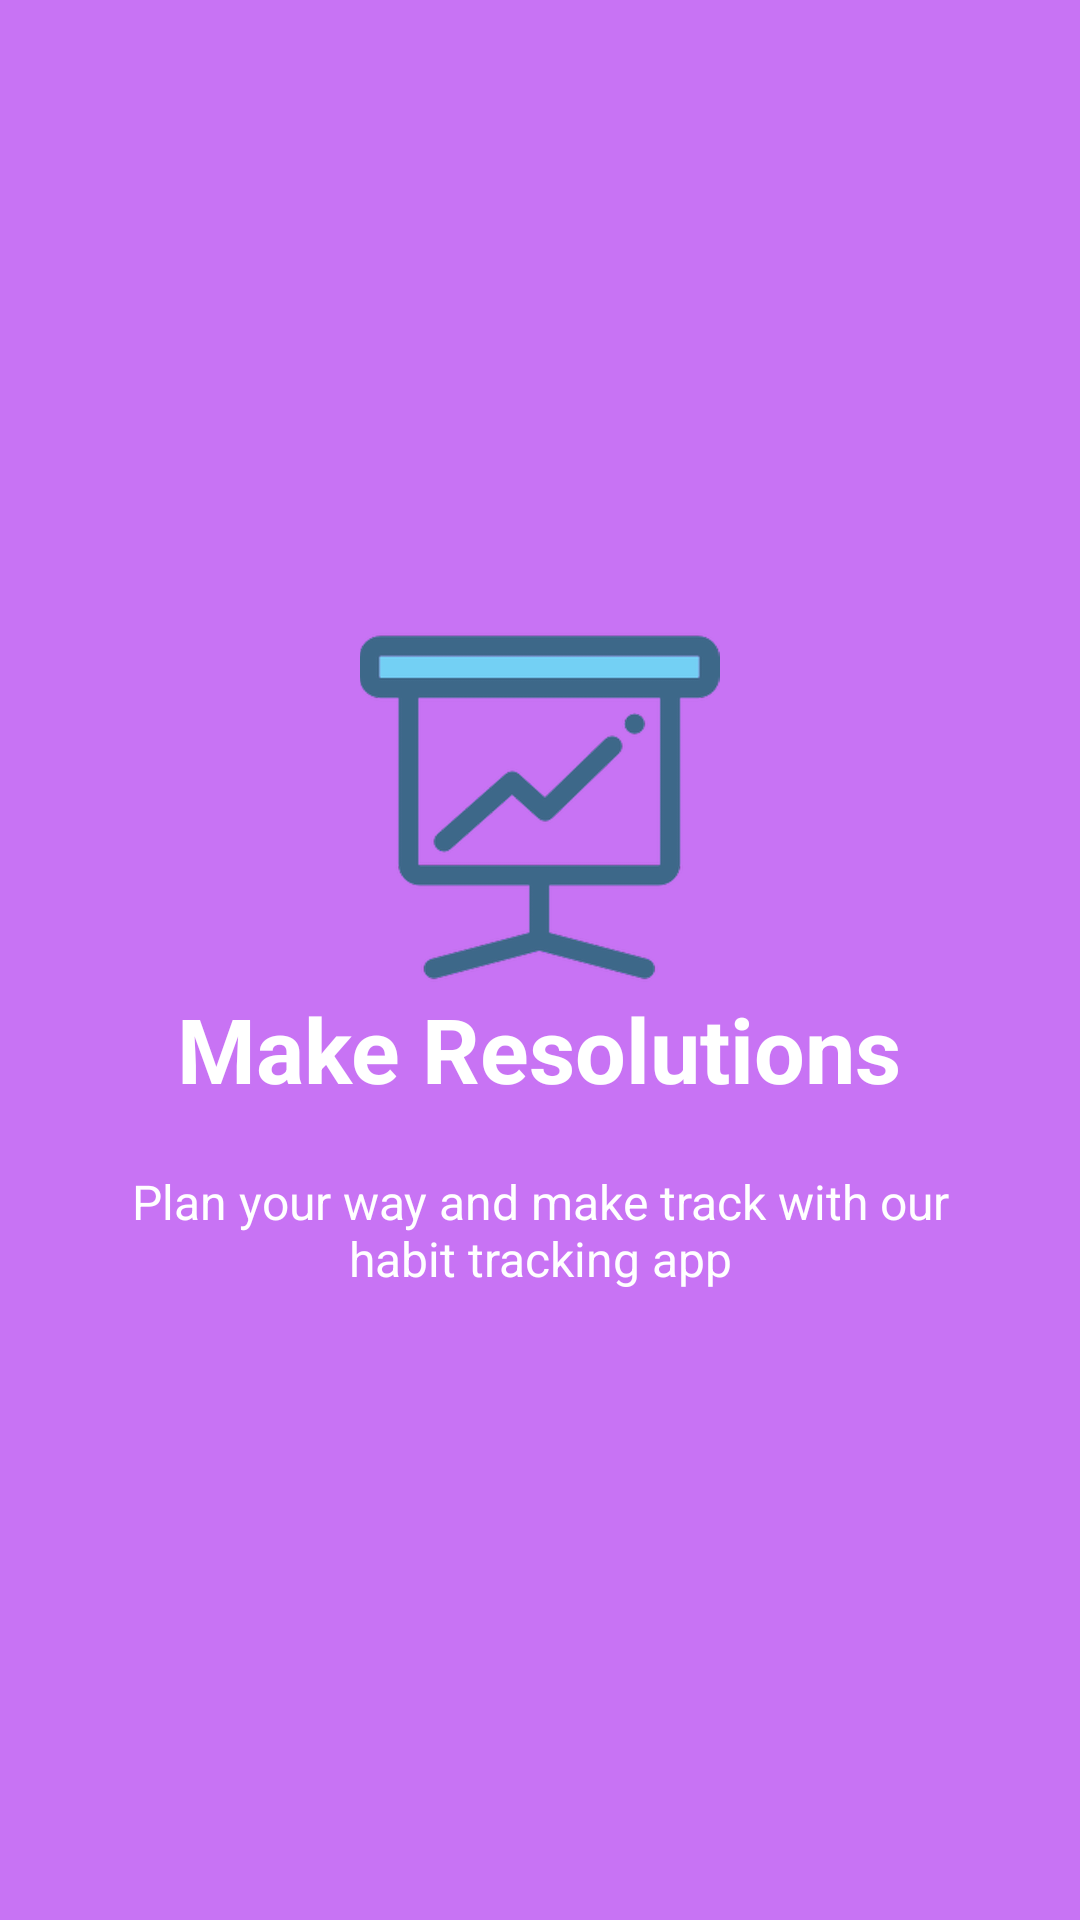

Locate icon controls on the screen. Image size 1080 x 1920, boxes as (x1, y1, x2, y2).
slide: (360, 635, 720, 979)
